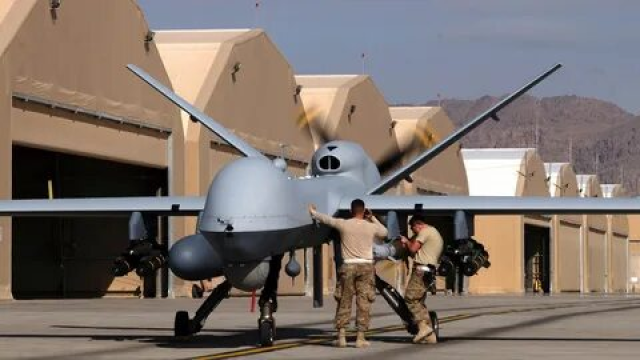military drone: (0, 62, 640, 346)
